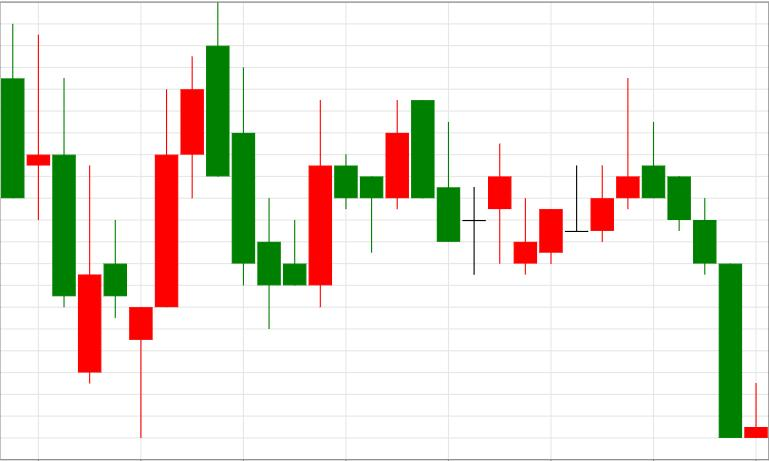bullish_engulfing_rise: (207, 2, 332, 329)
hammer_rise: (27, 35, 152, 438)
shooting_star_fall: (513, 78, 640, 276)
three_black_crows_fall: (514, 78, 742, 437)
